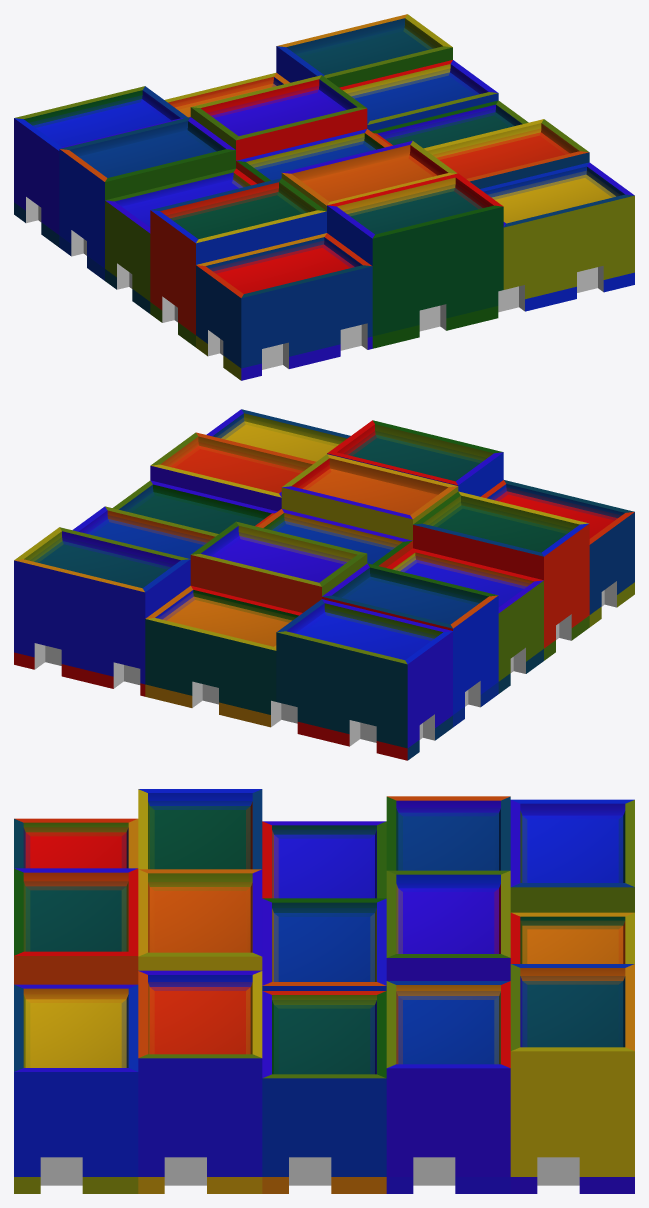
File: M_Edificio_02.fbx
3 renders of one model, top to bottom at view 1: azimuth 30°, elevation 25°; view 2: azimuth 150°, elevation 25°; view 3: azimuth 270°, elevation 25°, orthographic. The views are drawn at different scales.
Visible parts, largest first — view 1: Edificioo; view 2: Edificioo; view 3: Edificioo.
Part boxes in pixels (box(x1,y1,x2,y2)): Edificioo: box(14, 14, 634, 380); Edificioo: box(14, 409, 634, 760); Edificioo: box(14, 789, 634, 1193).
Size of the model in its own units: 10 by 2.68 by 10.
